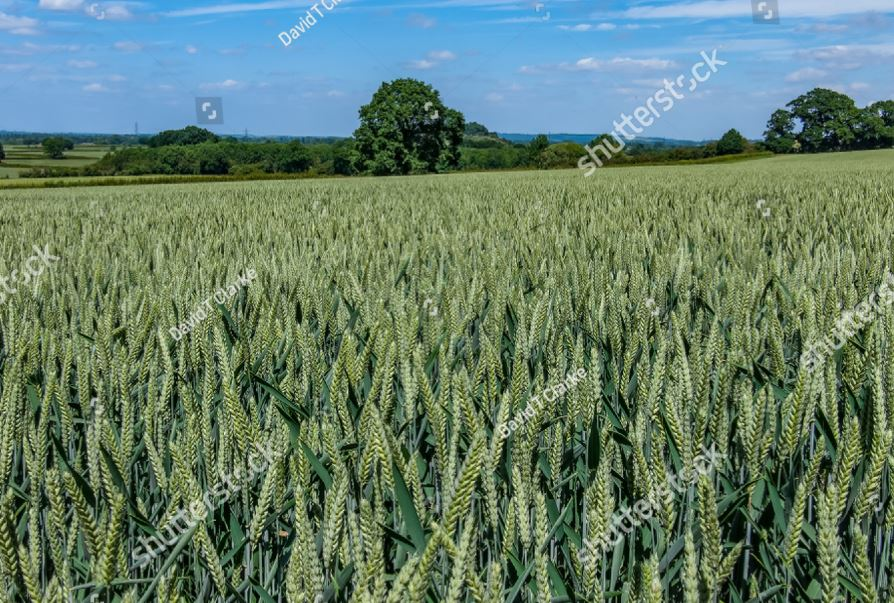Wheat: (305, 388, 868, 601)
